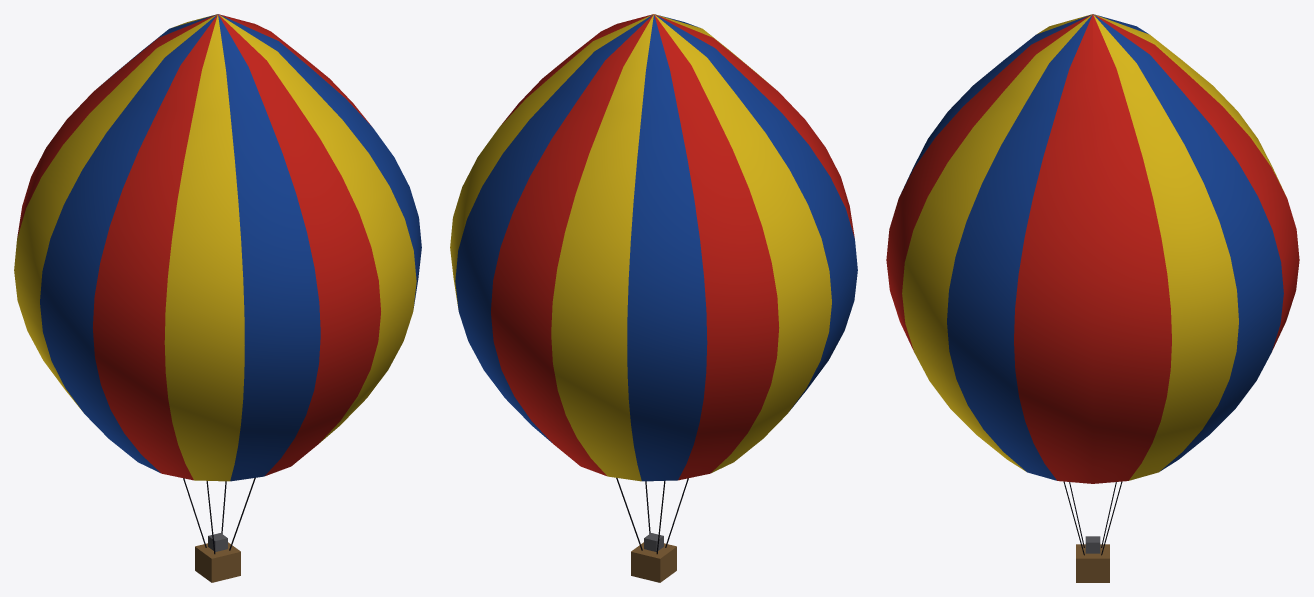
The model's file is balloon.glb.
3 views of the same model, side by side, from view 1: azimuth 30°, elevation 25°; view 2: azimuth 150°, elevation 25°; view 3: azimuth 270°, elevation 25° (orthographic).
Parts seen in each view (by area): view 1: balloon; view 2: balloon; view 3: balloon.
Part boxes in pixels (x1,y1,x2,y2): balloon: [14, 14, 421, 582]; balloon: [450, 14, 857, 582]; balloon: [886, 14, 1299, 582].
Bounding box in the file's own units: 17 × 25.5 × 17.
